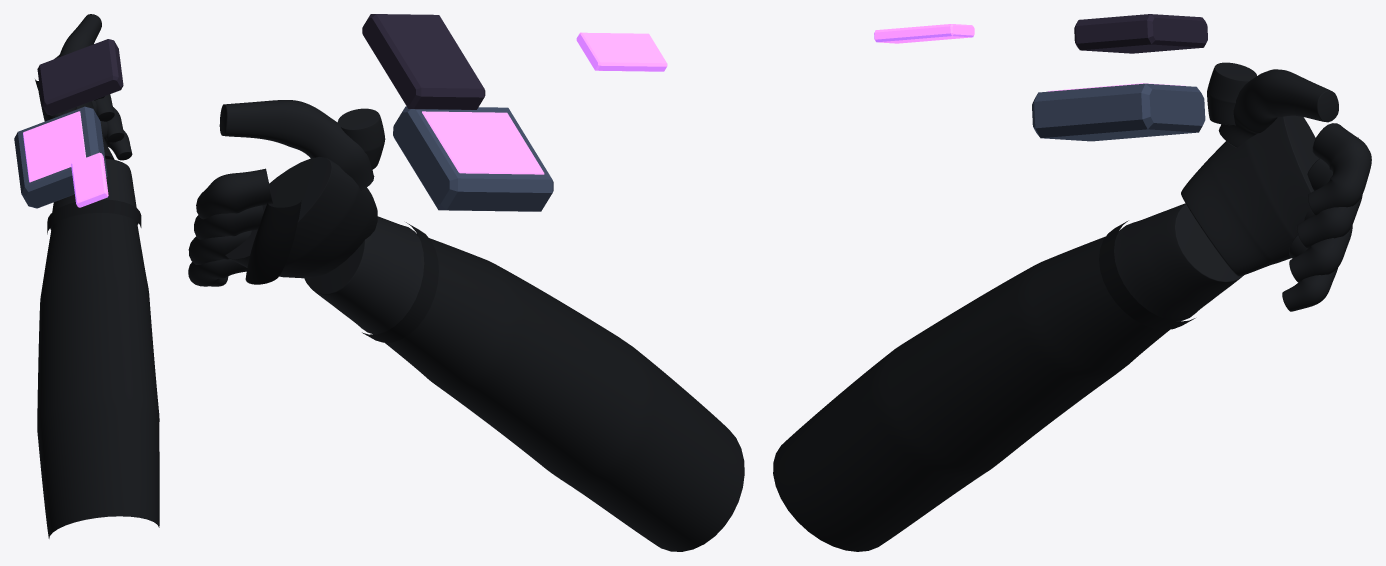
The model's file is hands_specter_magout.glb.
3 views of the same model, side by side, from view 1: azimuth 30°, elevation 25°; view 2: azimuth 150°, elevation 25°; view 3: azimuth 270°, elevation 25° (orthographic). The views are drawn at different scales.
Visible parts, largest first — view 1: hand_l_forearm, hand_l_cuff_plate, hand_l_scanner, hand_l_screen, hand_l_lamp, hand_l_cuff, hand_l_cuff_strap, hand_l_thumb, hand_l_little, hand_l_ring, hand_l_middle, hand_l_palm; view 2: hand_l_forearm, hand_l_palm, hand_l_cuff_plate, hand_l_cuff, hand_l_scanner, hand_l_thumb, hand_l_screen, hand_l_lamp, hand_l_knuckle_panel, hand_l_index, hand_l_cuff_strap, hand_l_web (+3 smaller); view 3: hand_l_forearm, hand_l_palm, hand_l_cuff, hand_l_scanner, hand_l_thumb, hand_l_cuff_plate, hand_l_index, hand_l_middle, hand_l_cuff_strap, hand_l_web, hand_l_ring, hand_l_little (+1 smaller).
Part boxes in pixels (x1,y1,x2,y2): hand_l_forearm: (37, 213, 159, 538); hand_l_cuff_plate: (37, 39, 123, 115); hand_l_scanner: (14, 106, 107, 208); hand_l_screen: (23, 111, 85, 182); hand_l_lamp: (71, 152, 108, 207); hand_l_cuff: (50, 158, 138, 230); hand_l_cuff_strap: (47, 199, 141, 234); hand_l_thumb: (59, 14, 101, 113); hand_l_little: (100, 121, 132, 160); hand_l_ring: (92, 100, 124, 142); hand_l_middle: (95, 94, 114, 121); hand_l_palm: (38, 81, 114, 159); hand_l_forearm: (385, 233, 744, 551); hand_l_palm: (225, 157, 377, 278); hand_l_cuff_plate: (362, 14, 485, 109); hand_l_cuff: (304, 216, 424, 334); hand_l_scanner: (393, 106, 553, 211); hand_l_thumb: (219, 100, 374, 190); hand_l_screen: (422, 111, 544, 174); hand_l_lamp: (576, 32, 667, 71); hand_l_knuckle_panel: (245, 200, 301, 284); hand_l_index: (196, 168, 272, 219); hand_l_cuff_strap: (362, 222, 438, 342); hand_l_web: (337, 108, 385, 169); hand_l_forearm: (773, 236, 1180, 551); hand_l_palm: (1181, 115, 1319, 276); hand_l_cuff: (1114, 203, 1243, 321); hand_l_scanner: (1032, 83, 1205, 141); hand_l_thumb: (1218, 69, 1338, 147); hand_l_cuff_plate: (1074, 14, 1207, 53); hand_l_index: (1307, 123, 1371, 215); hand_l_middle: (1296, 158, 1362, 248); hand_l_cuff_strap: (1099, 220, 1195, 329); hand_l_web: (1207, 62, 1256, 125); hand_l_ring: (1289, 209, 1352, 282); hand_l_little: (1282, 235, 1337, 311).
Bounding box in the file's own units: 0.1719 × 0.297 × 0.2661.
